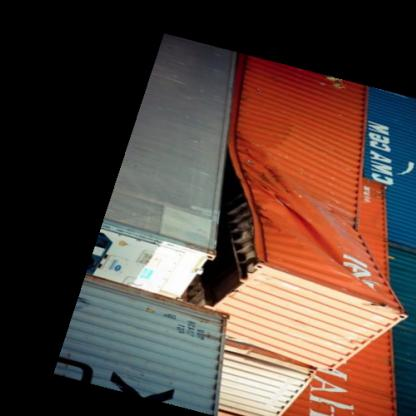Damage: (224, 140, 392, 311)
